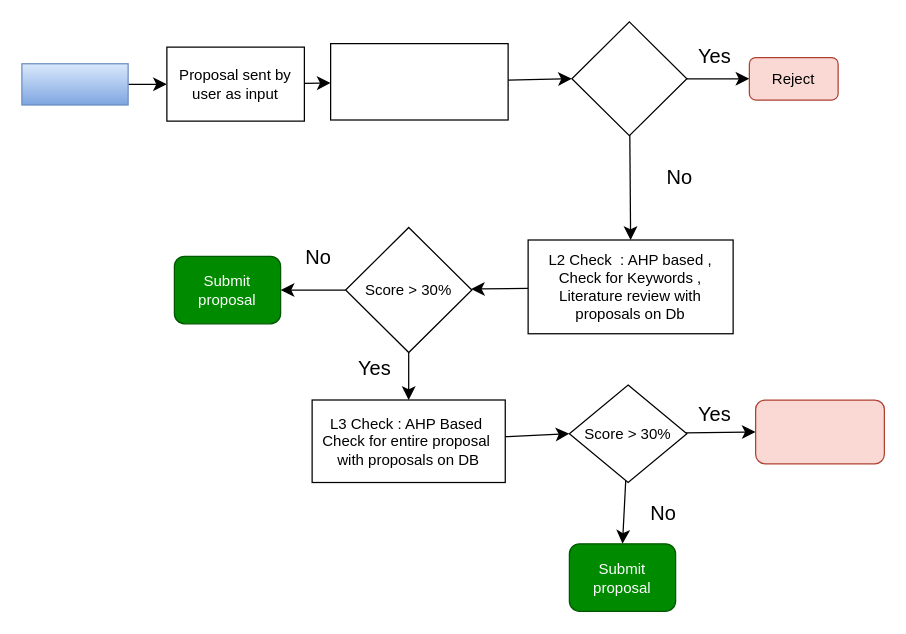
The diagram is 906 pixels wide and 634 high, and some of its shapes have lost their labels. The shapes that lost their labels are listed below. From the top down, each one's centre as x and y in pixels, then its label:
At pixel 74 83: "Start".
At pixel 418 81: "L1 Check : Search on google for exact match".
At pixel 629 78: "Score > 40%".
At pixel 819 431: "Reject and return Plagiarism Report".
